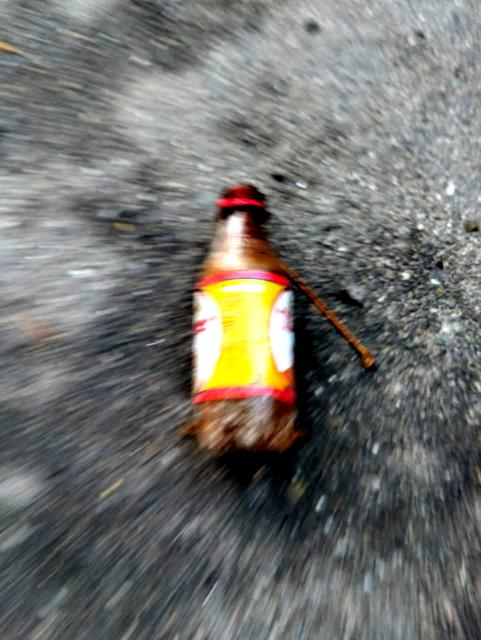bottle: (204, 182, 305, 467)
